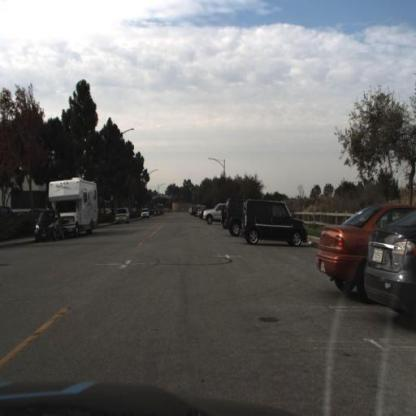car: (318, 200, 416, 302), (238, 197, 308, 248), (46, 179, 100, 236), (220, 198, 244, 241), (34, 206, 62, 242), (36, 208, 64, 244), (222, 199, 249, 236), (203, 201, 226, 228), (113, 206, 131, 229), (140, 205, 152, 221)
truck: (53, 182, 94, 233)
